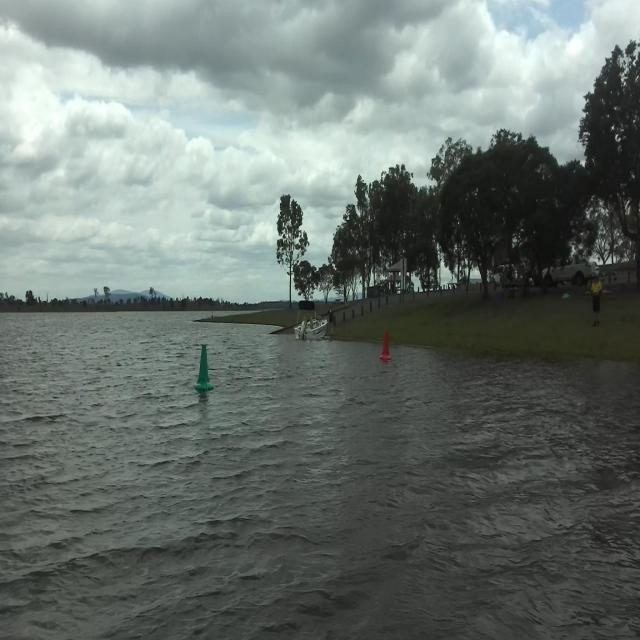Green_Buoy: (190, 340, 215, 398)
Red_Buoy: (378, 333, 395, 362)
